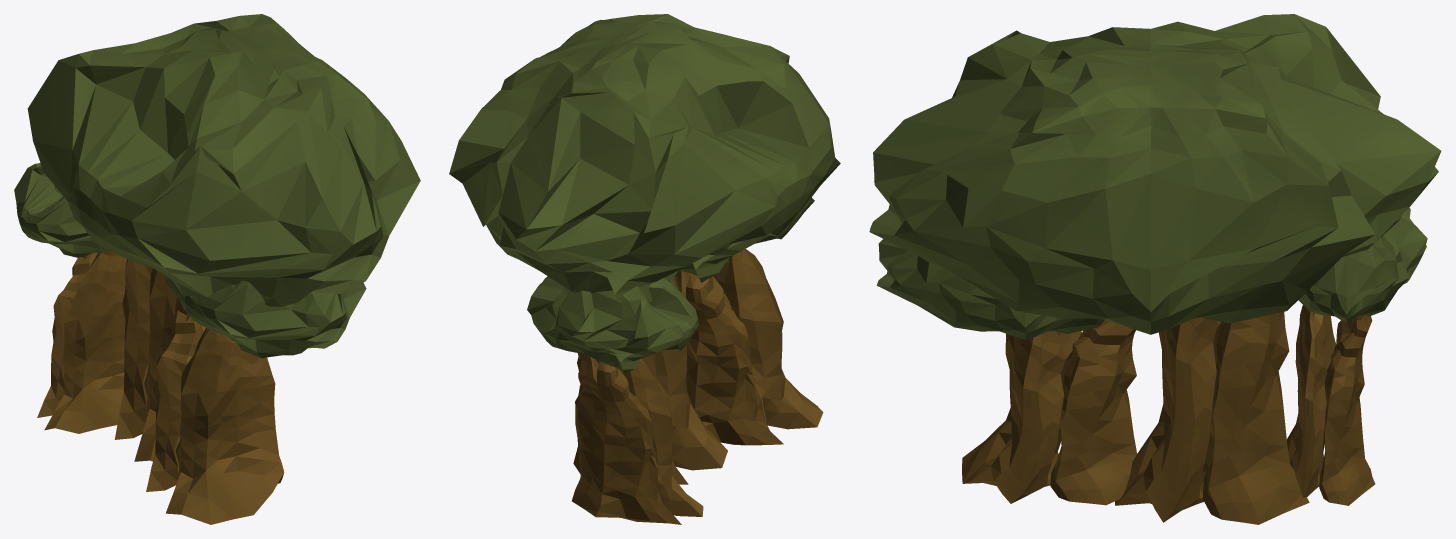
The model's file is ARBUSTO_2_normals.fbx.
3 renders of one model, left to right at view 1: azimuth 30°, elevation 25°; view 2: azimuth 150°, elevation 25°; view 3: azimuth 270°, elevation 25°, orthographic. The views are drawn at different scales.
Visible parts, largest first — view 1: Cube.001, Cube, Cube.005, Cube.003, Cube.004, Cube.002; view 2: Cube.001, Cube, Cube.005, Cube.002, Cube.004, Cube.003; view 3: Cube.001, Cube.004, Cube, Cube.005, Cube.003, Cube.002.
Part boxes in pixels (x1,y1,x2,y2): Cube.001: (27, 14, 420, 306); Cube: (146, 297, 284, 524); Cube.005: (37, 250, 126, 433); Cube.003: (164, 275, 366, 357); Cube.004: (114, 259, 178, 466); Cube.002: (14, 163, 107, 257); Cube.001: (449, 14, 840, 303); Cube: (675, 249, 823, 445); Cube.005: (572, 353, 703, 524); Cube.002: (527, 276, 698, 373); Cube.004: (573, 276, 727, 484); Cube.003: (679, 197, 814, 282); Cube.001: (869, 14, 1441, 334); Cube.004: (1115, 312, 1309, 524); Cube: (962, 320, 1136, 505); Cube.005: (1287, 305, 1375, 505); Cube.003: (877, 239, 1104, 339); Cube.002: (1298, 207, 1427, 323).
Size of the model in its own units: 669 by 879 by 947.
